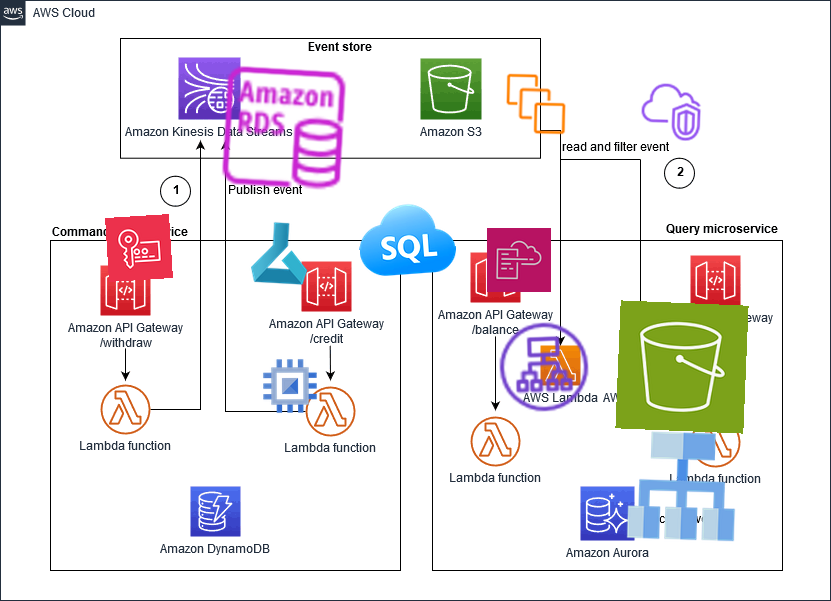aws_amazon_simple_storage_service: (615, 300, 749, 434)
aws_aurora_amazon_rds_instance: (216, 60, 352, 196)
aws_cloudformation: (486, 227, 552, 293)
aws_ec2_instances: (503, 71, 569, 137)
aws_elastic_load_balancing_application_load_balancer: (494, 317, 594, 417)
aws_key_management_service: (105, 214, 173, 282)
aws_vpc_virtual_private_cloud_vpc: (637, 78, 705, 146)
azure_machine_learning: (246, 219, 314, 287)
azure_sql: (355, 189, 459, 293)
gcp_cloud_load_balancing: (616, 420, 748, 552)
gcp_compute_engine: (257, 353, 323, 419)
